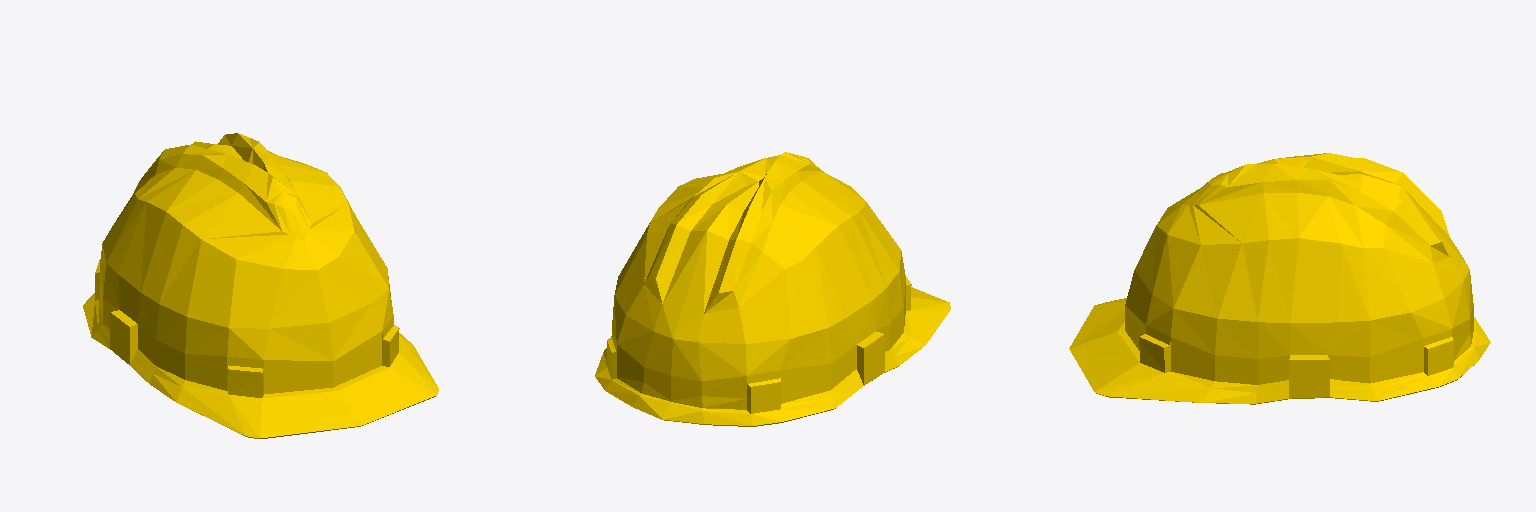
3 views of the same model, side by side, from view 1: azimuth 30°, elevation 25°; view 2: azimuth 150°, elevation 25°; view 3: azimuth 270°, elevation 25° (orthographic).
Size of the model in its own units: 16.38 by 12.2 by 24.62.
Materials: 1 (1 with a texture image).